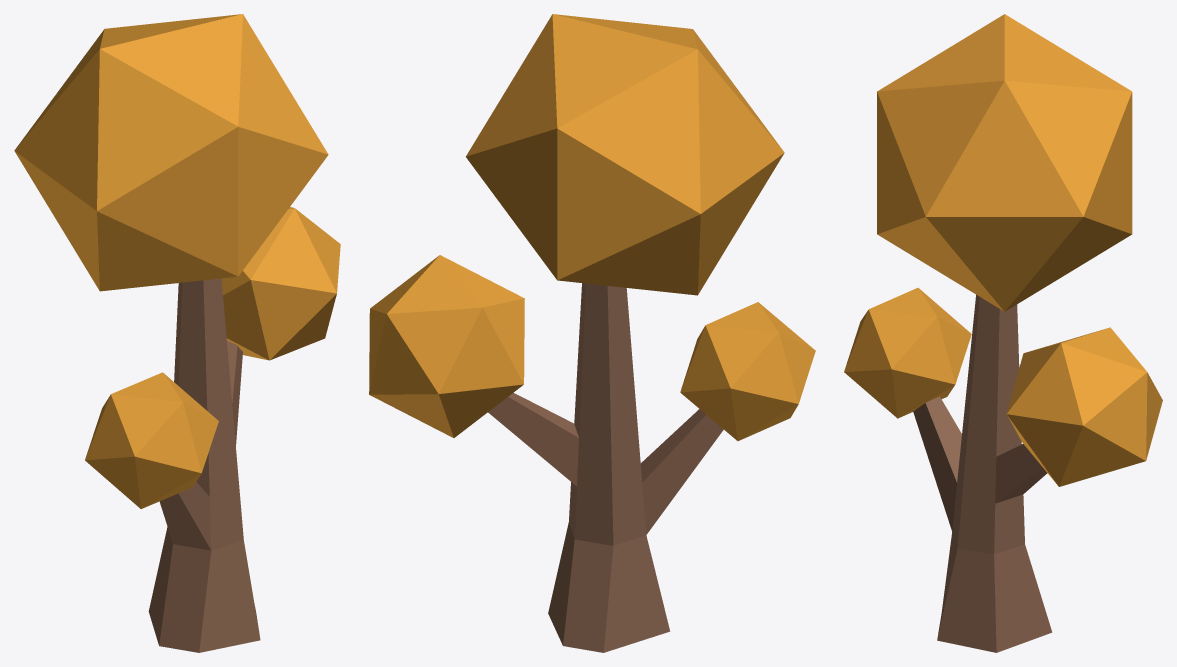
The model's file is deciduous_tree_12.fbx.
3 renders of one model, left to right at view 1: azimuth 30°, elevation 25°; view 2: azimuth 150°, elevation 25°; view 3: azimuth 270°, elevation 25°, orthographic. The views are drawn at different scales.
Parts seen in each view (by area): view 1: deciduous_tree_12; view 2: deciduous_tree_12; view 3: deciduous_tree_12.
Part boxes in pixels (box(x1,y1,x2,y2)): deciduous_tree_12: box(14, 14, 340, 652); deciduous_tree_12: box(369, 14, 815, 652); deciduous_tree_12: box(844, 14, 1162, 652).
Bounding box in the file's own units: 272 × 456 × 232.
